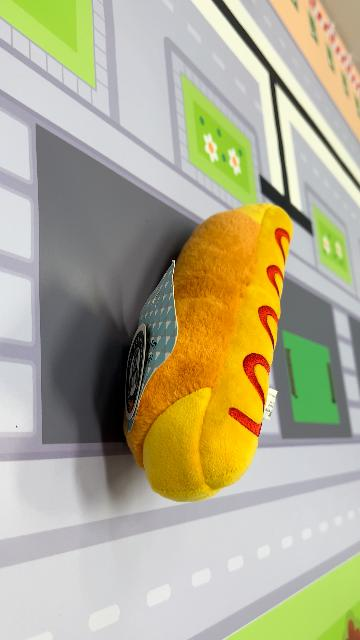hotdog: (121, 201, 295, 503)
